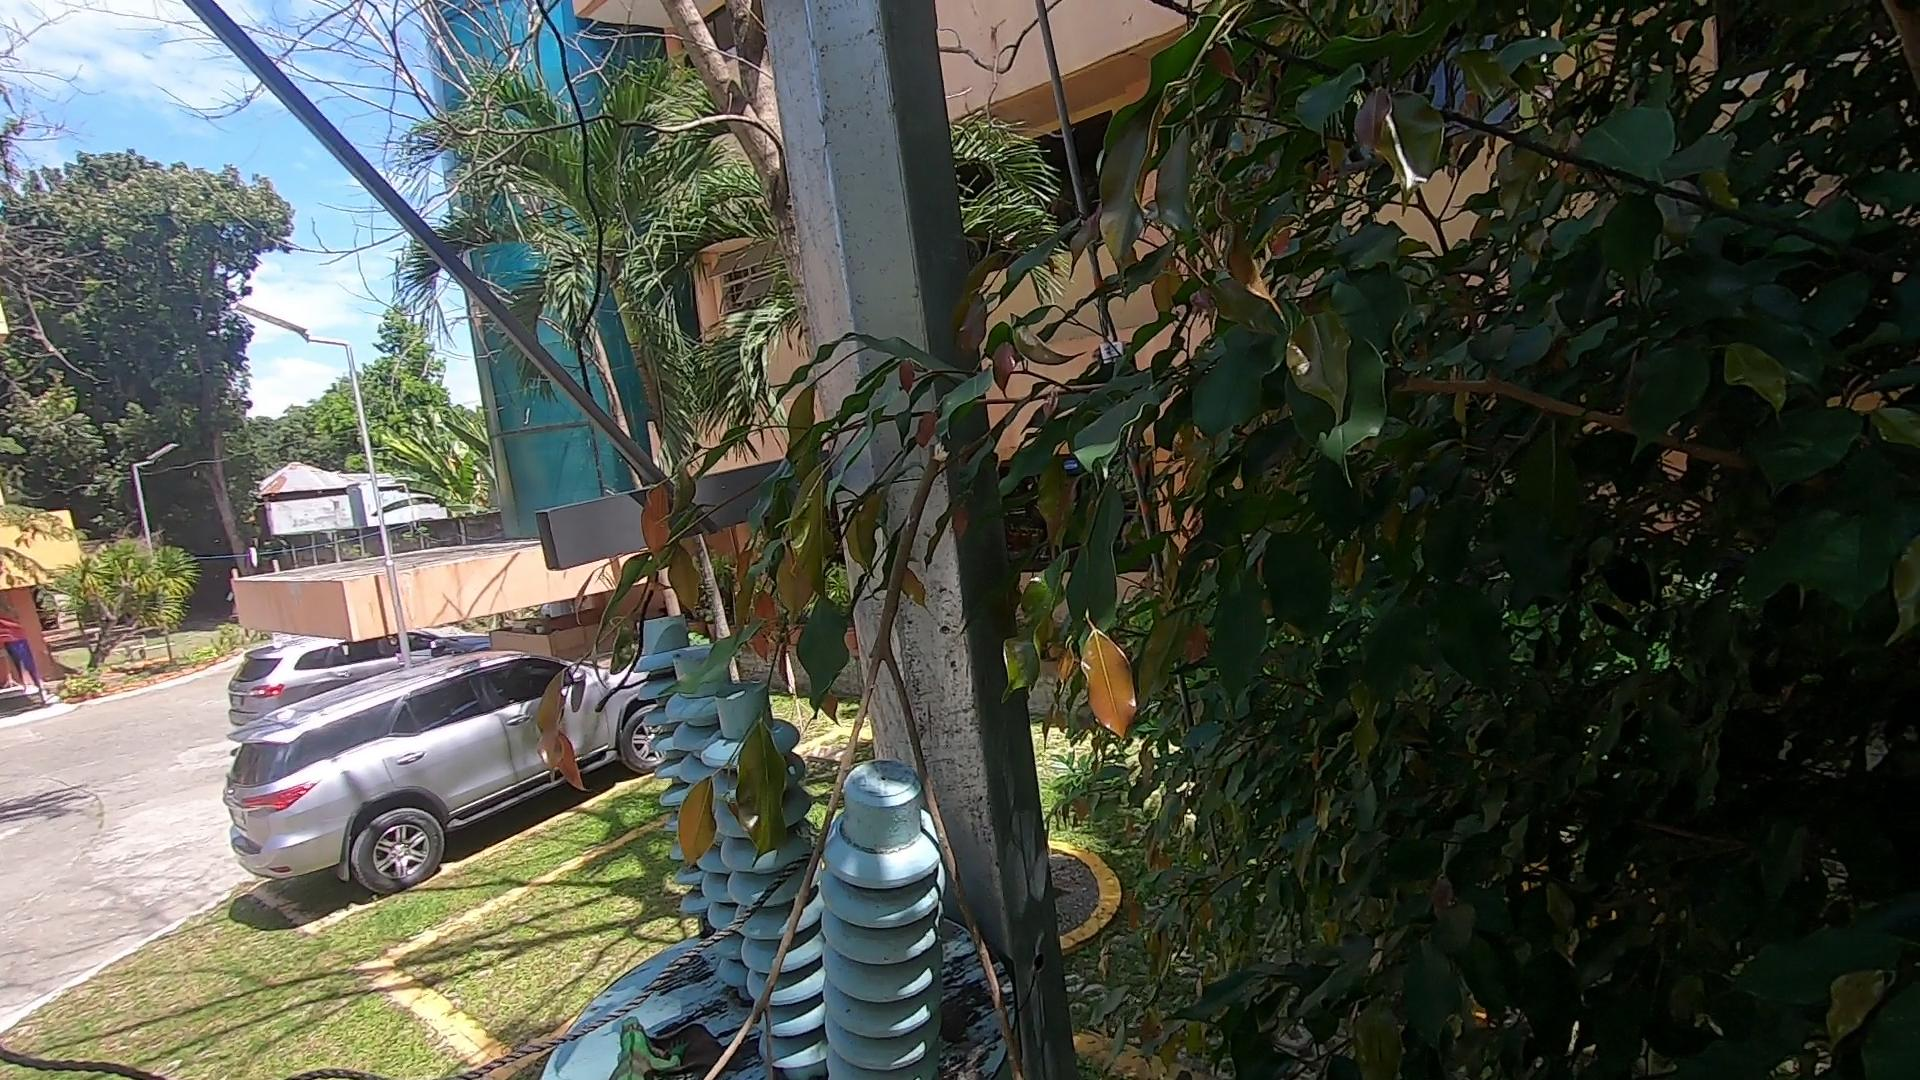leaf: (649, 1013, 736, 1080)
tree branch: (698, 407, 1017, 1080)
